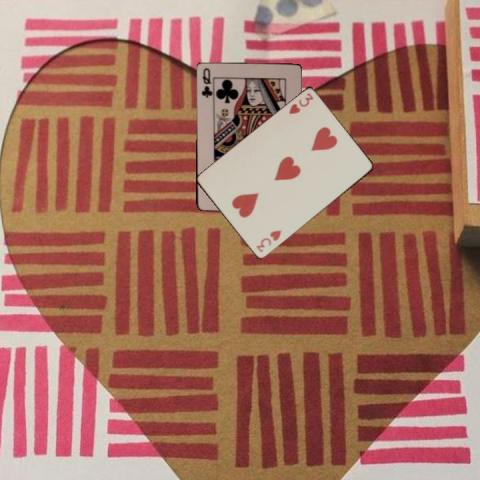3h: (253, 227, 284, 254), (285, 90, 315, 116)
Qc: (198, 65, 212, 98)
